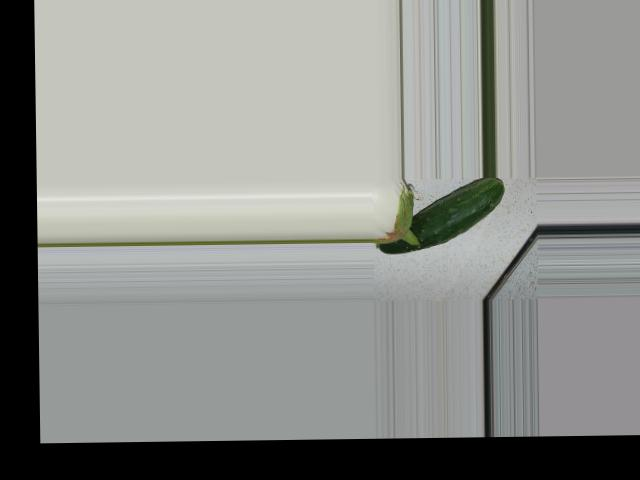cucumber: (375, 176, 505, 253)
